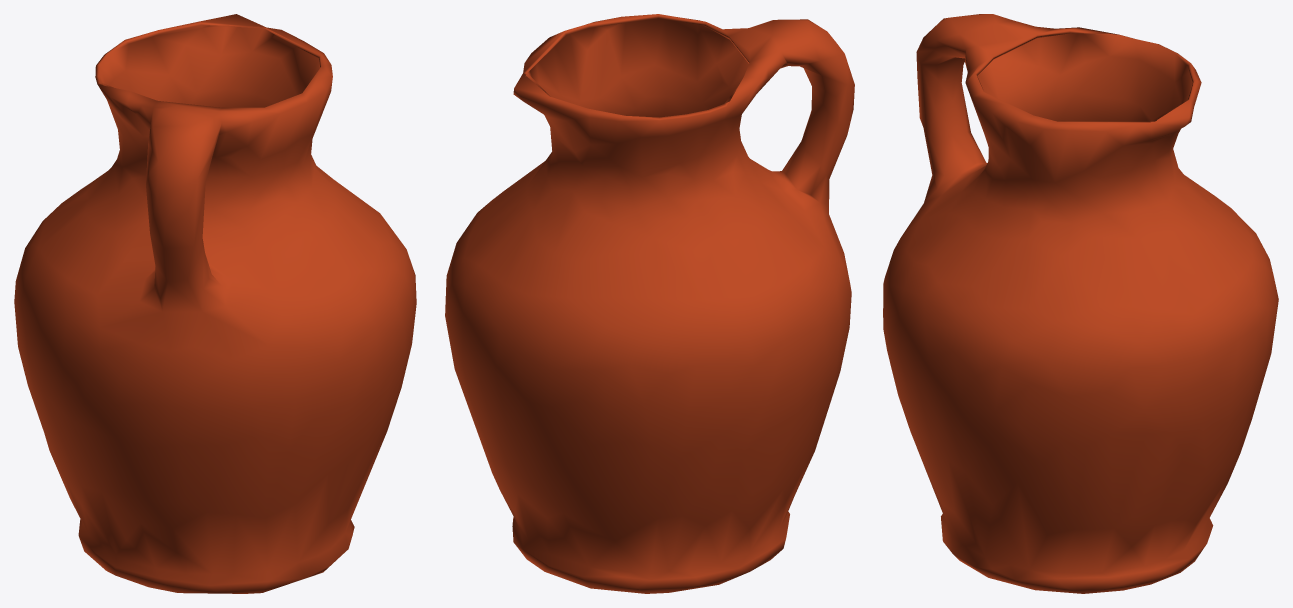
Rendered from Pitcjer2100.glb.
3 renders of one model, left to right at view 1: azimuth 30°, elevation 25°; view 2: azimuth 150°, elevation 25°; view 3: azimuth 270°, elevation 25°, orthographic. The views are drawn at different scales.
Visible parts, largest first — view 1: dzban20-35fps_2100_Baked; view 2: dzban20-35fps_2100_Baked; view 3: dzban20-35fps_2100_Baked.
Part boxes in pixels (x1,y1,x2,y2): dzban20-35fps_2100_Baked: (14, 14, 416, 593); dzban20-35fps_2100_Baked: (445, 14, 854, 593); dzban20-35fps_2100_Baked: (883, 14, 1278, 593).
Bounding box in the file's own units: 1.87 × 2.51 × 1.87.
